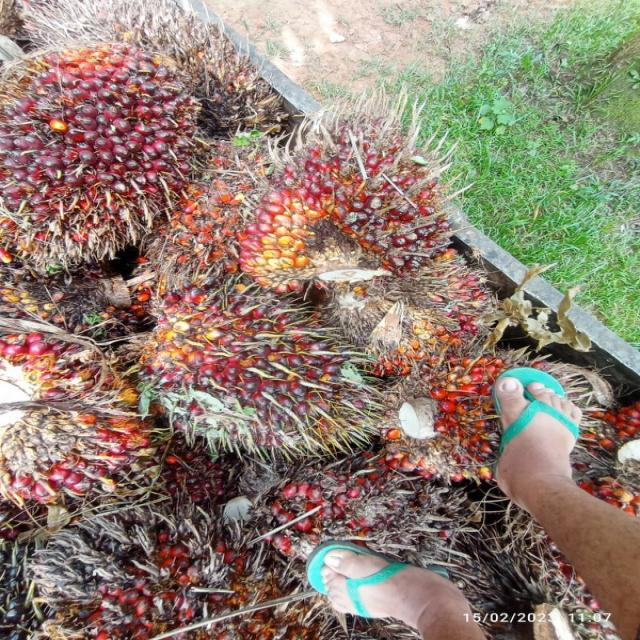fraksi 3: (211, 73, 498, 310)
